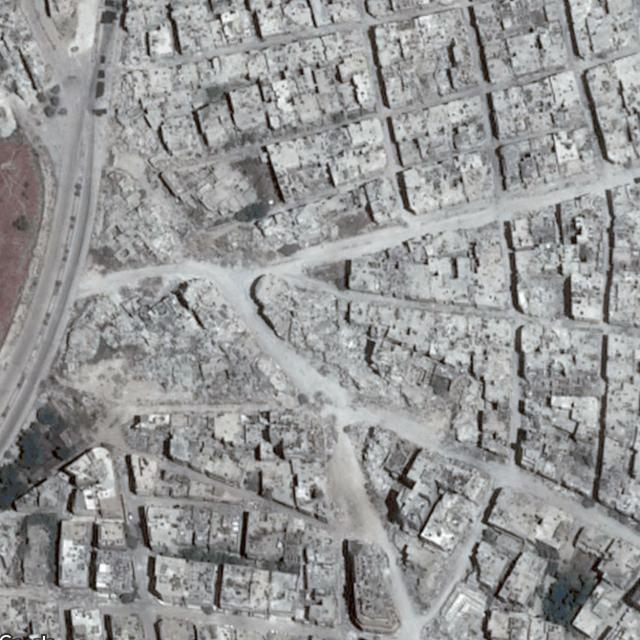damaged_building: (84, 63, 363, 274), (252, 274, 482, 444), (42, 279, 297, 414), (344, 421, 418, 516), (267, 407, 335, 463)
